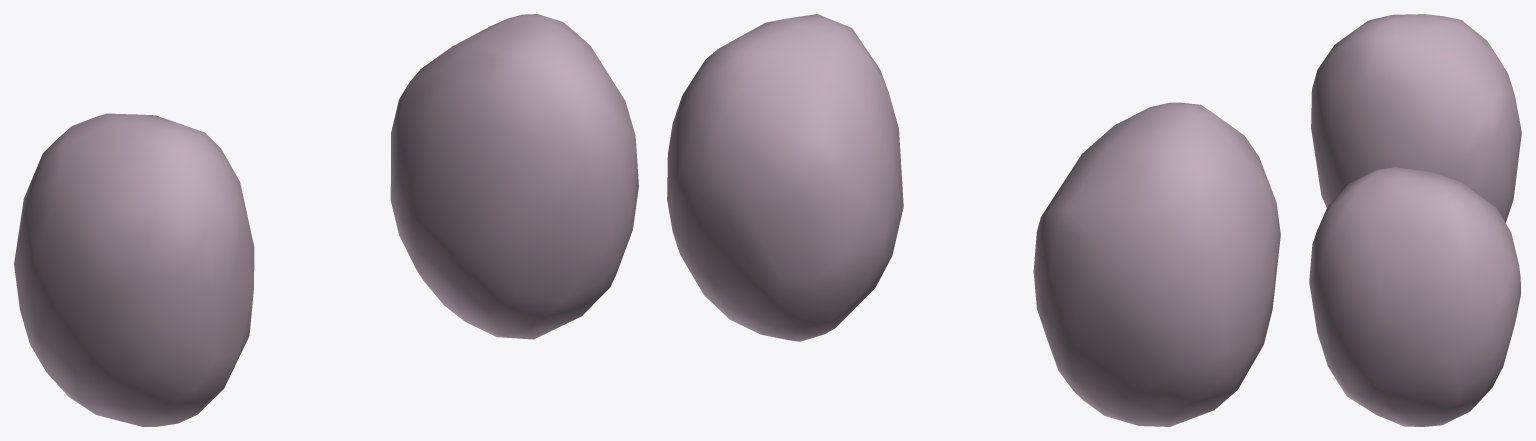
The model's file is testes.glb.
The picture shows the model from 3 angles, left to right: view 1: azimuth 30°, elevation 25°; view 2: azimuth 150°, elevation 25°; view 3: azimuth 270°, elevation 25°; orthographic projection. The views are drawn at different scales.
Visible parts, largest first — view 1: world; view 2: world; view 3: world.
Part boxes in pixels (box(x1,y1,x2,y2)): world: box(14, 14, 638, 426); world: box(667, 14, 1280, 426); world: box(1309, 14, 1521, 426).
Size of the model in its own units: 2 by 0.9994 by 0.7723.
